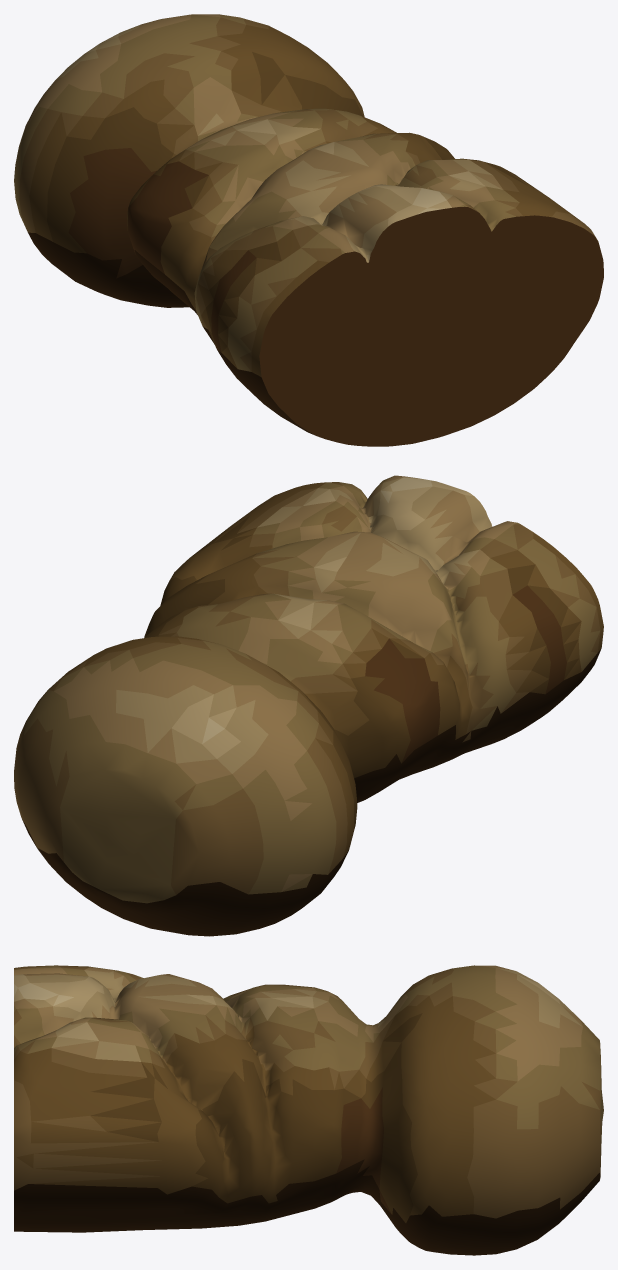
File: ixm_maw_85.glb
3 renders of one model, top to bottom at view 1: azimuth 30°, elevation 25°; view 2: azimuth 150°, elevation 25°; view 3: azimuth 270°, elevation 25°, orthographic. The views are drawn at different scales.
Parts seen in each view (by area): view 1: ixm_maw_85; view 2: ixm_maw_85; view 3: ixm_maw_85.
Part boxes in pixels (x1=…): ixm_maw_85: x1=14, y1=14, x2=603, y2=446; ixm_maw_85: x1=14, y1=475, x2=603, y2=936; ixm_maw_85: x1=14, y1=965, x2=603, y2=1255.
Size of the model in its own units: 18.06 by 12.95 by 27.56.
